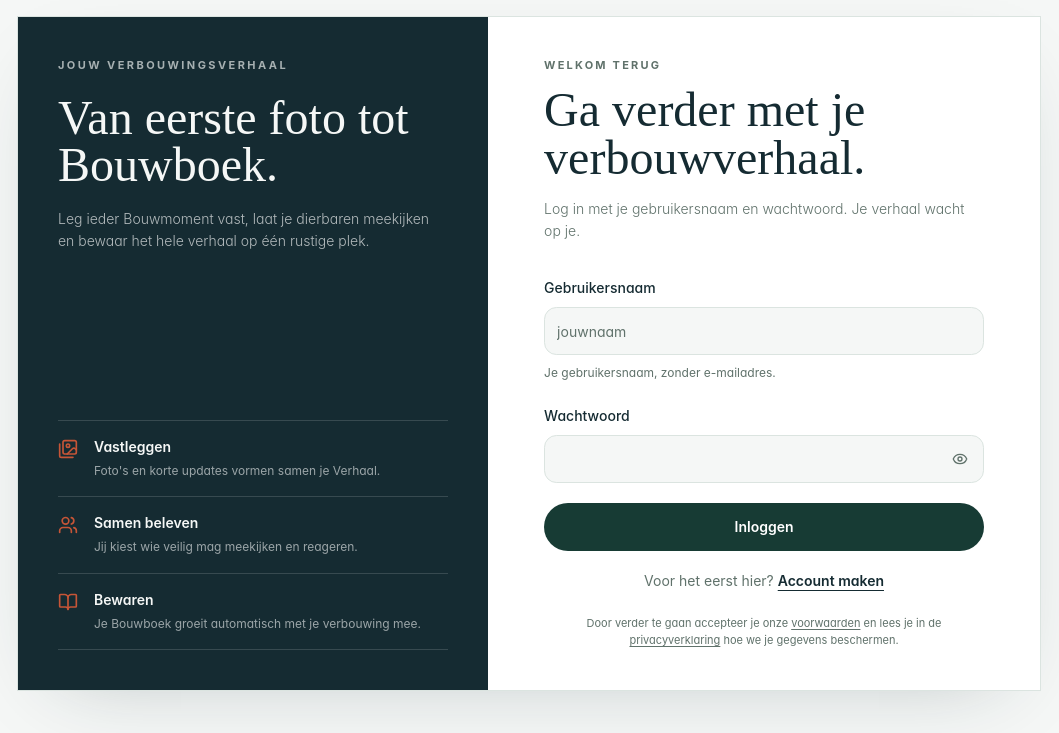
it: username/password auth page › keeps the destination when switching modes and clears the previous password
Step 1. Type "bouw-eigenaar" into the field labelled "Gebruikersnaam" → [764, 331], box [544,307,984,355]
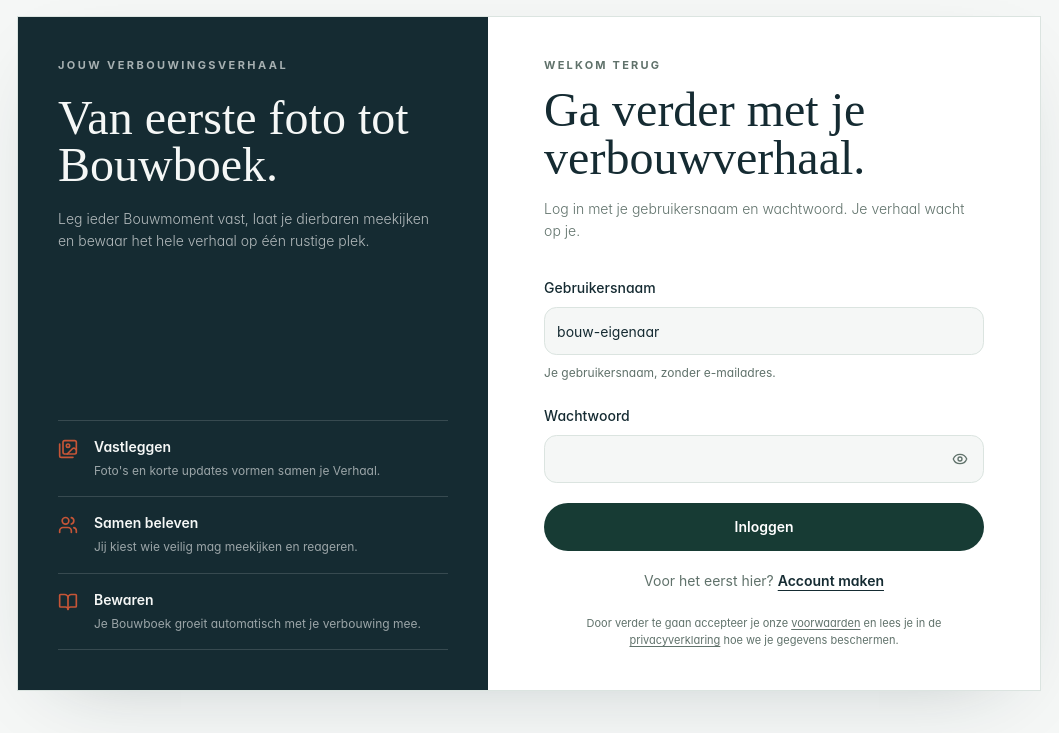
Step 2. Type "Bouw!dag27" into the password field labelled "Wachtwoord" → [764, 458], box [544,434,984,482]
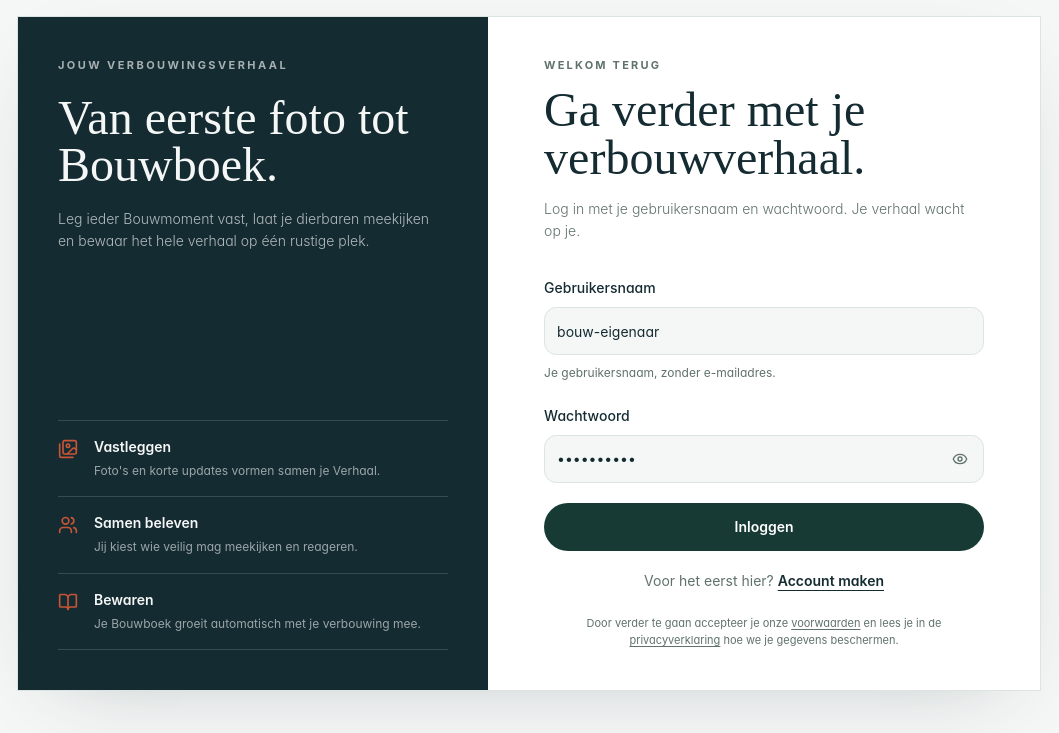
Step 3. Click the button "Account maken" → [831, 580], box [778,570,884,590]
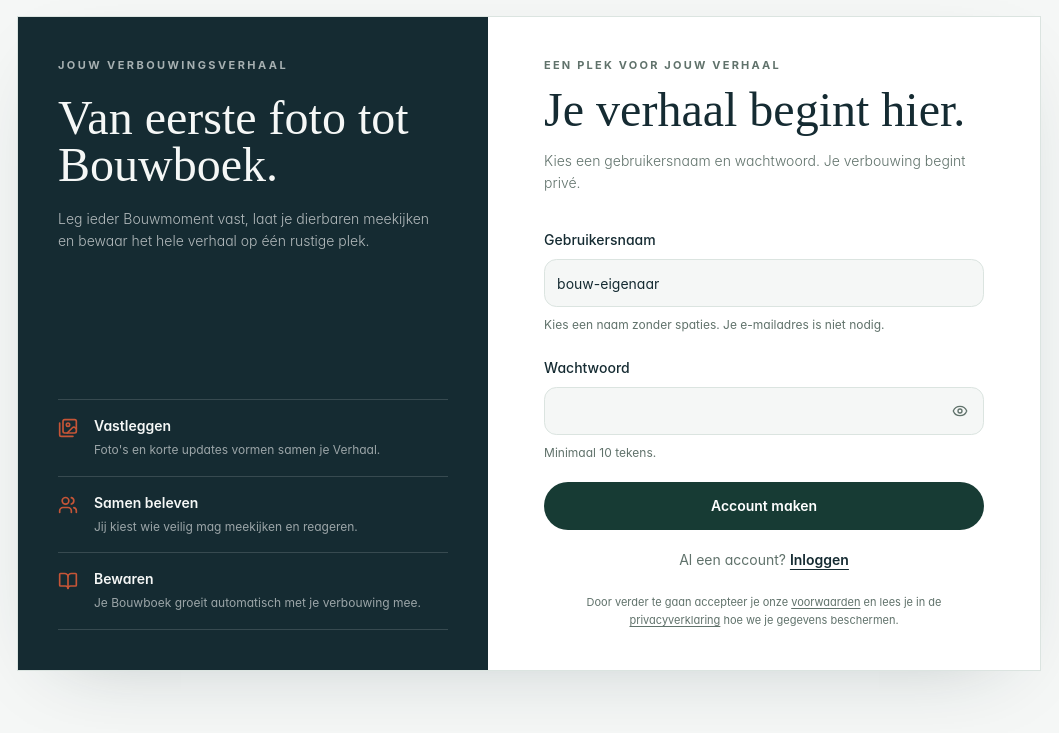
Now the heading "Je verhaal begint hier." is shown, box [544,86,984,134]
Now the password field labelled "Wachtwoord" is empty, box [544,386,984,434]
